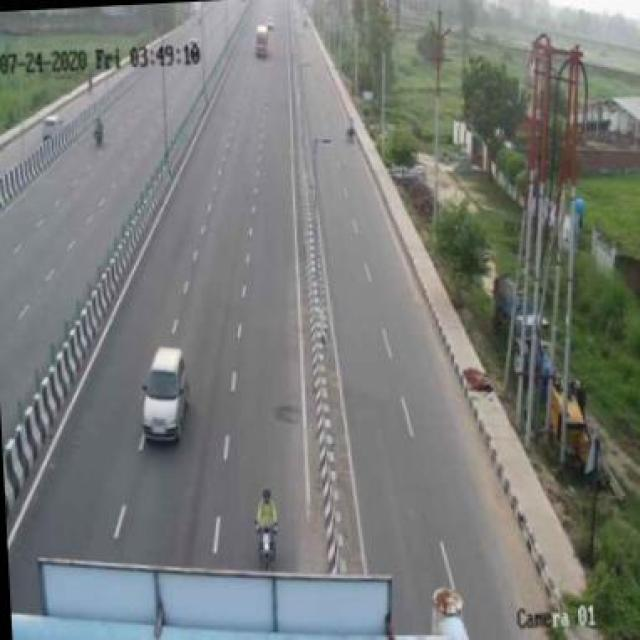car: (129, 345, 198, 449)
